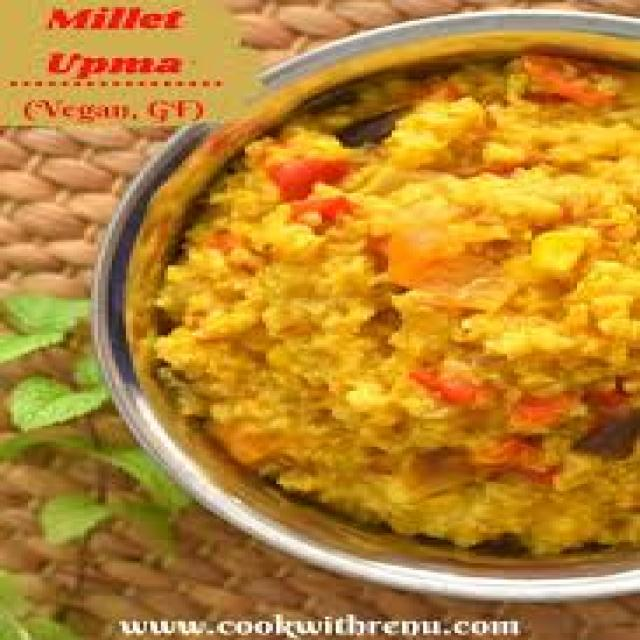POHA: (147, 54, 637, 545)
